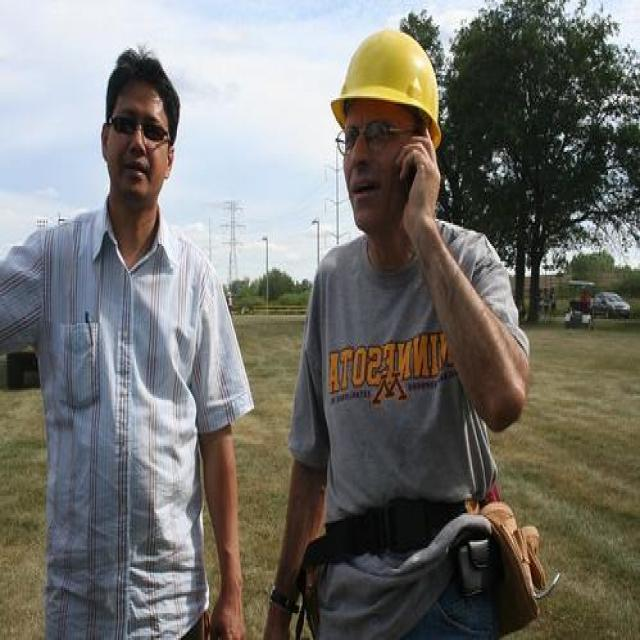safety_helmet: (328, 23, 446, 140)
